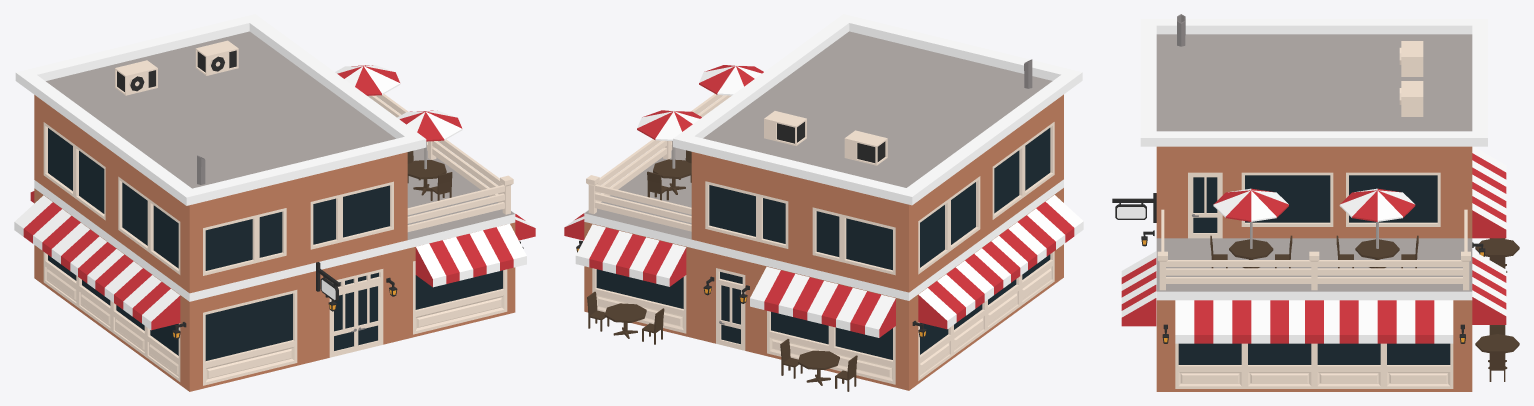
File: building-restaurant.glb
3 renders of one model, left to right at view 1: azimuth 30°, elevation 25°; view 2: azimuth 150°, elevation 25°; view 3: azimuth 270°, elevation 25°, orthographic.
Visible parts, largest first — view 1: building-restaurant; view 2: building-restaurant; view 3: building-restaurant.
Part boxes in pixels (bbox=[...]): building-restaurant: bbox=[14, 14, 535, 391]; building-restaurant: bbox=[564, 14, 1083, 391]; building-restaurant: bbox=[1112, 14, 1519, 391].
Size of the model in its own units: 14.28 by 7.9 by 12.9.
1 material, 1 textured.
